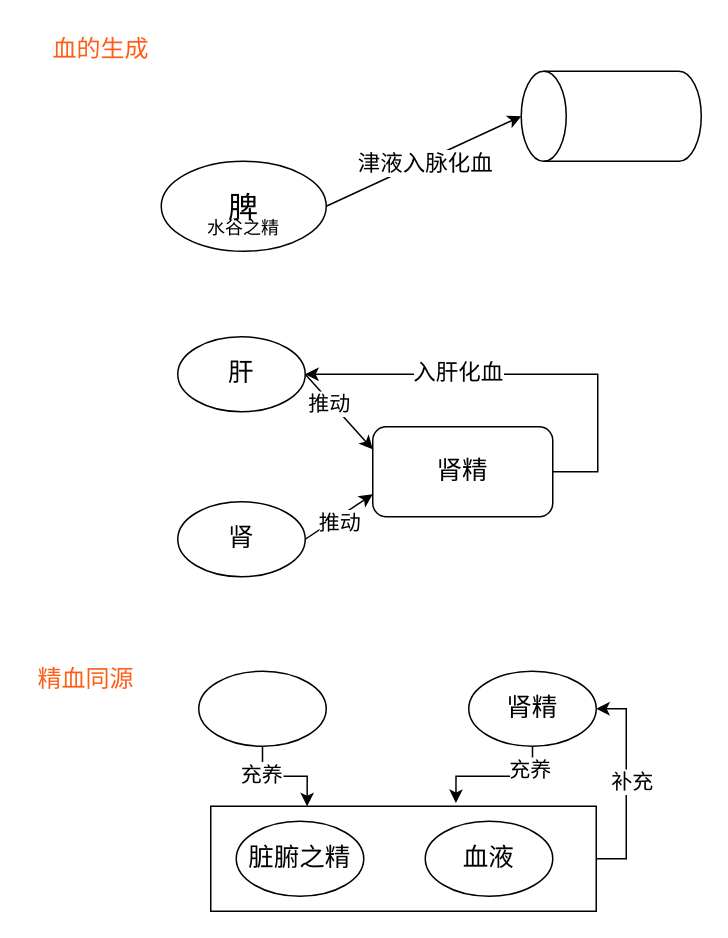
The diagram is 728 pixels wide and 938 high, and some of its shapes have lost their labels. Each missing label, with the box of its shape:
水谷精微: (197, 670, 326, 746)
脉管: (520, 70, 701, 161)
